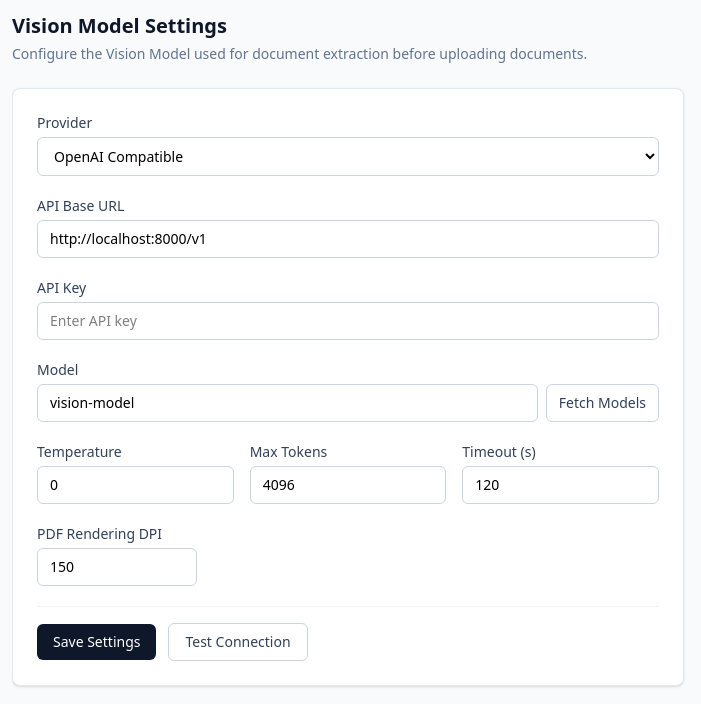
Test case: SettingsPage › saves updated settings
expect the field showing "http://localhost:8000/v1" below "API Base URL" is shown: met, box [37,220,659,258]
Step 1. Replace the text in the 2nd field showing "vision-model" with "new-model" → (287, 403), box [37,384,538,422]
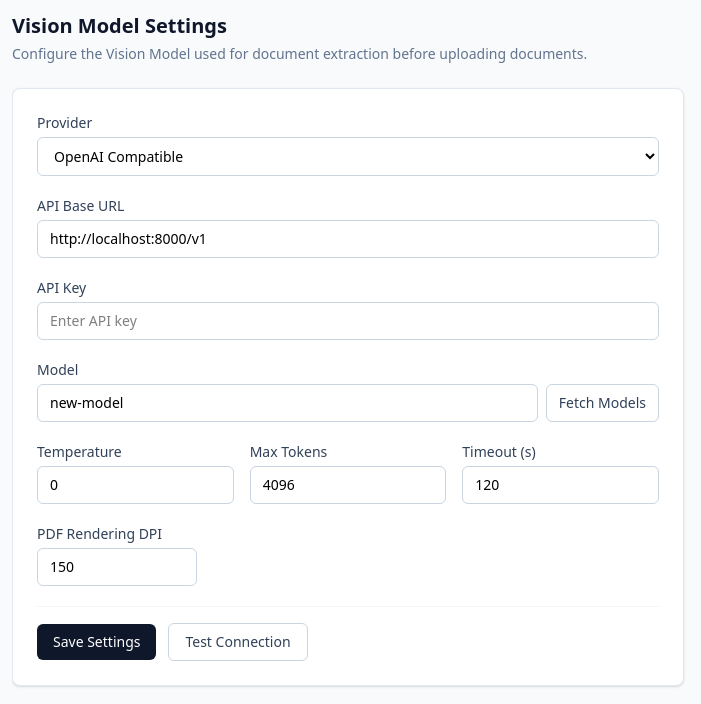
Step 2. Click the button "Save Settings" → (97, 642), box [37,624,156,660]
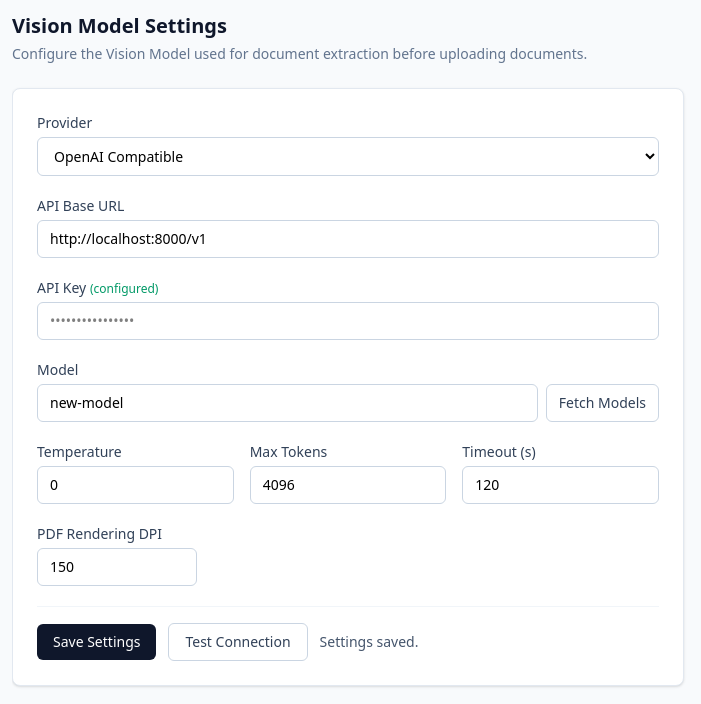
expect the text "Settings saved." is shown: met, box [320,632,418,652]
